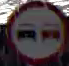No overtake: (4, 1, 68, 60)
